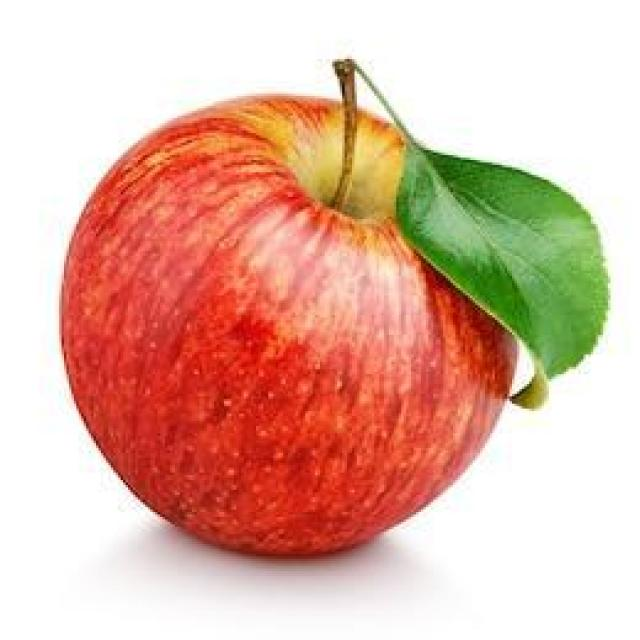apple: (61, 93, 518, 560)
